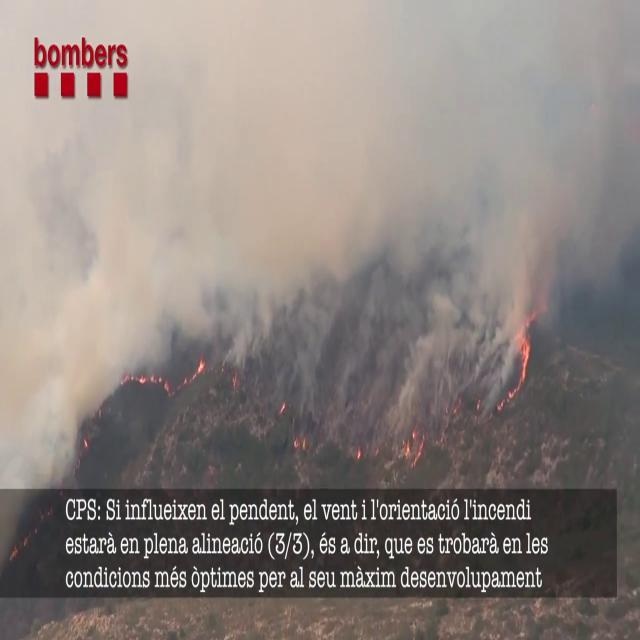Fire: (510, 307, 536, 393), (192, 347, 208, 382)
Smoke: (4, 1, 640, 410)
